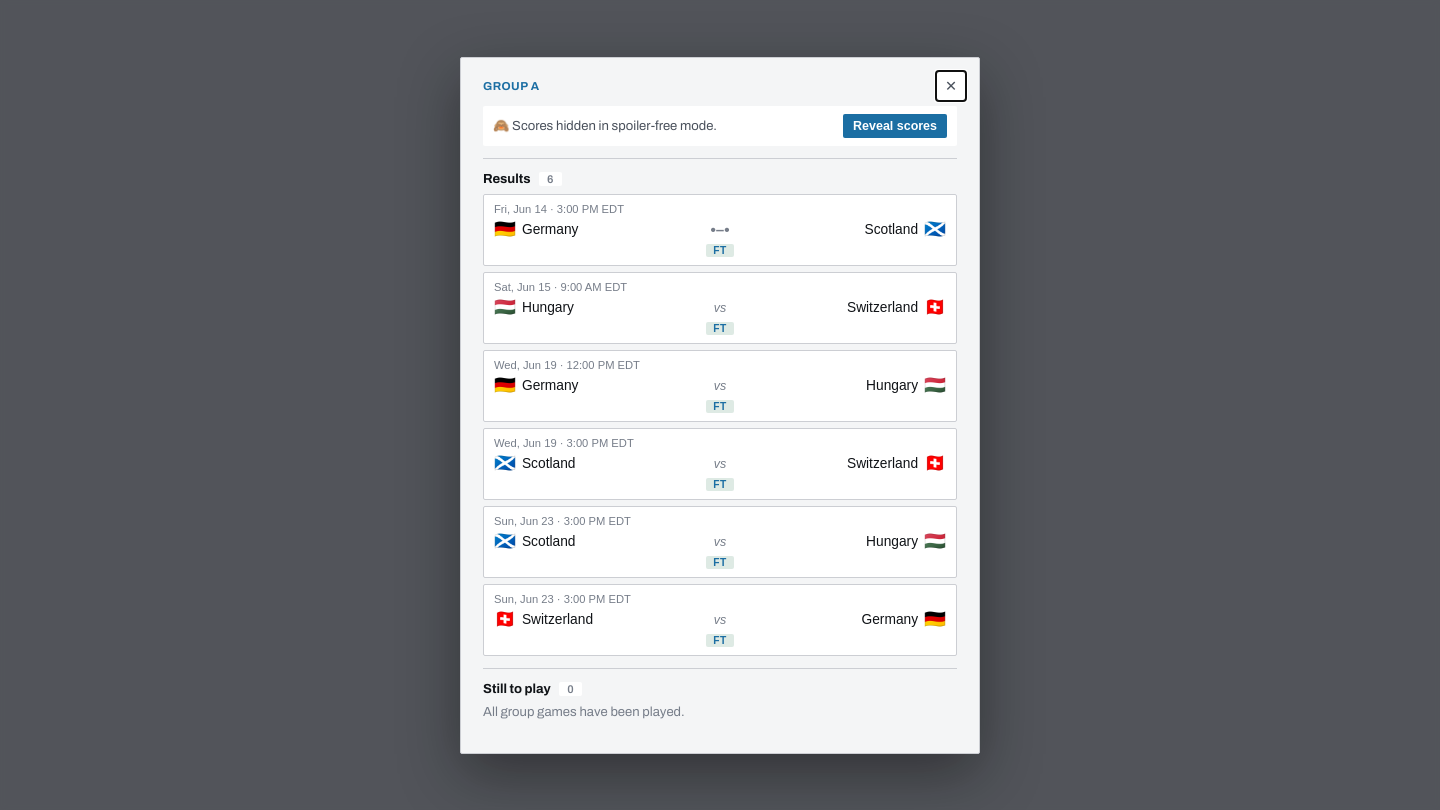
Test case: GroupGamesModal (coverage) › hides scores in spoiler-free mode and reveals them on click
The width and height of the screenshot is (1440, 810).
expect the text "🙈 Scores hidden in spoiler-free mode." is shown: met, box x1=493 y1=118 x2=717 y2=133
expect the text "•–•" is shown: met, box x1=710 y1=220 x2=730 y2=238
Step 1. Click the button "Reveal scores" → (895, 126), box x1=843 y1=114 x2=947 y2=138
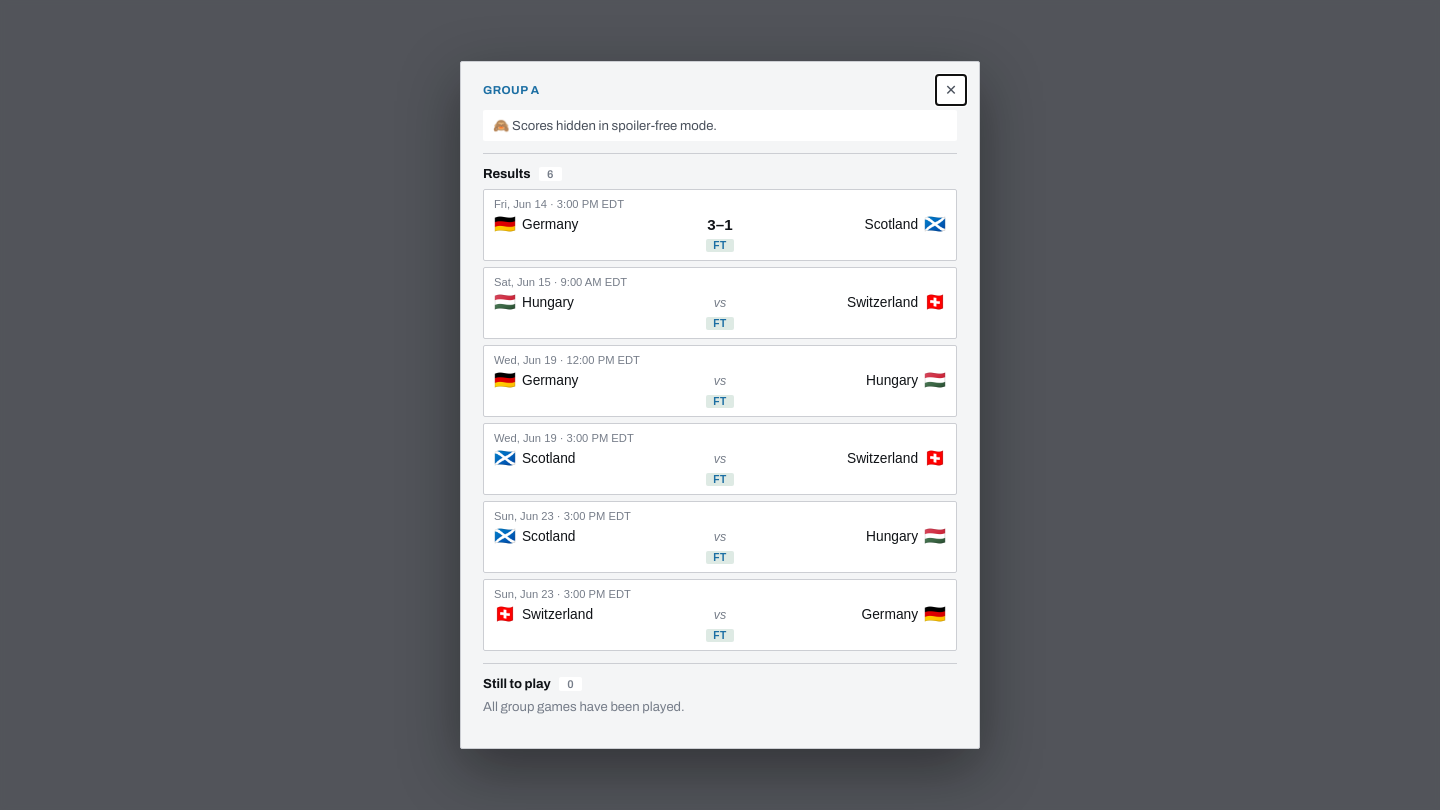
expect the text "3–1" is shown: met, box x1=707 y1=216 x2=733 y2=233
expect the button "Reveal scores" is gone: met
